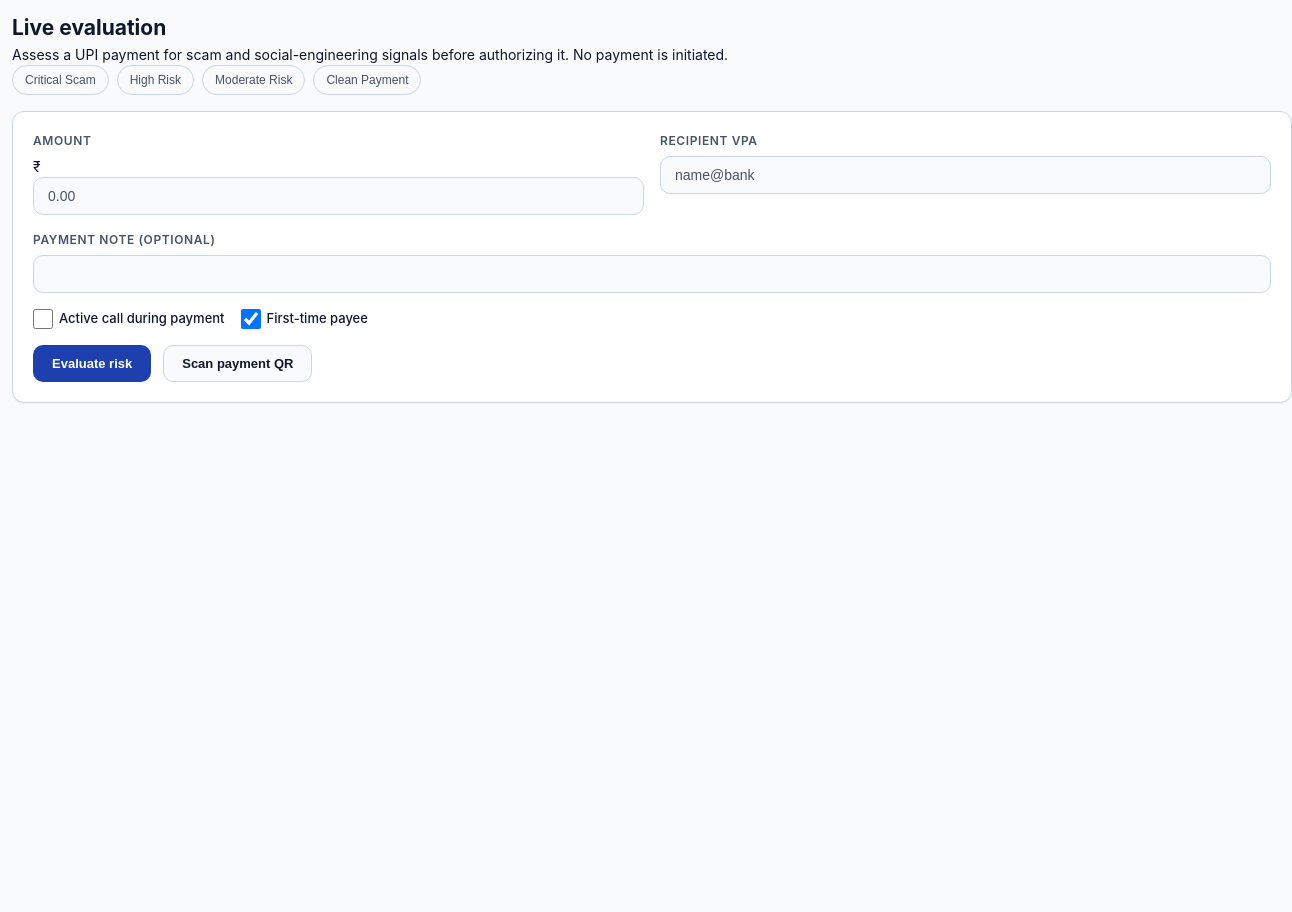
Test: copy transaction ID button works
Type "100" into the field labelled "Amount". click: (338, 196)
box: [33,176,644,214]
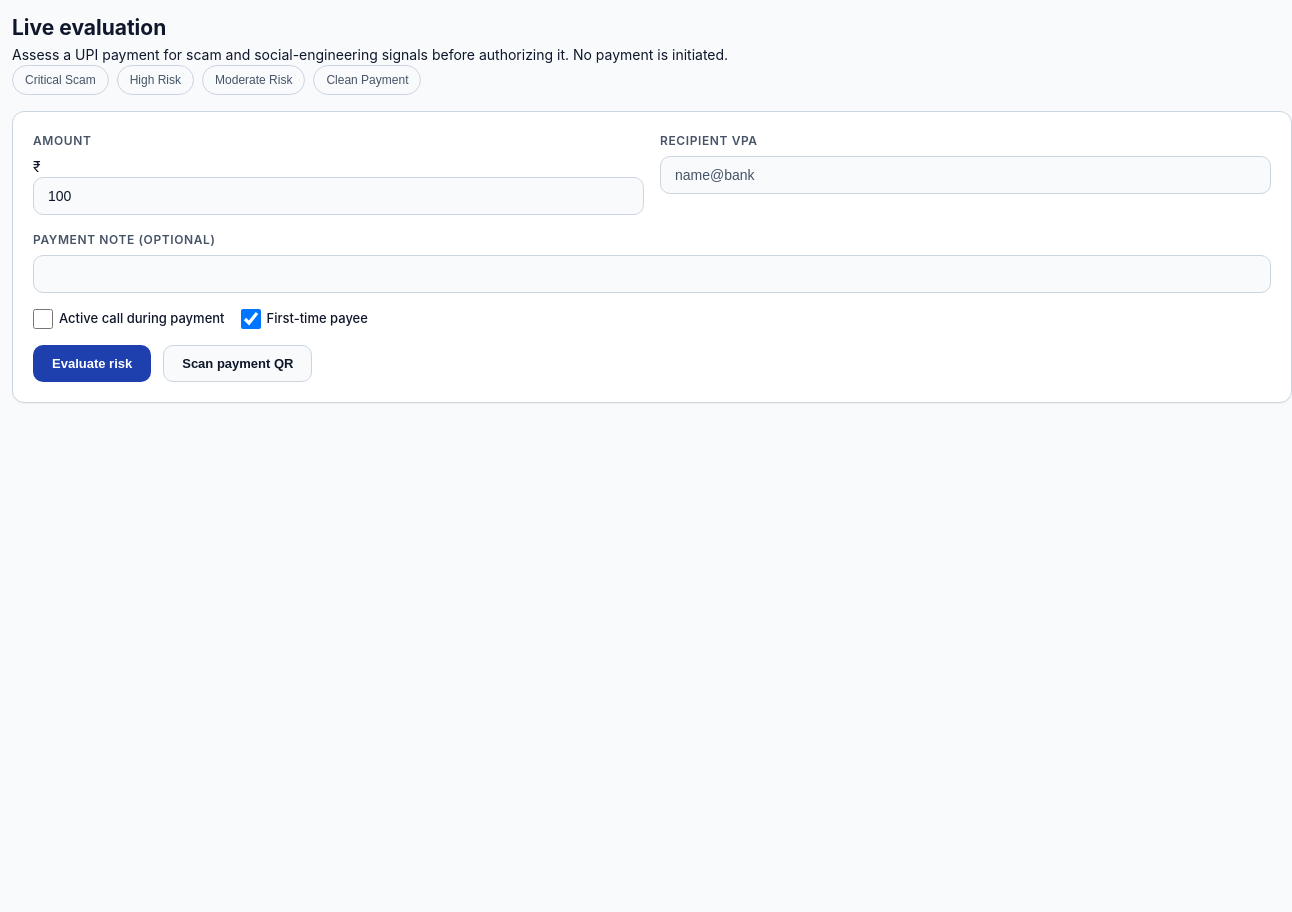
Type "test@bank" into the field labelled "Recipient VPA". click: (966, 174)
box: [660,156,1271,194]
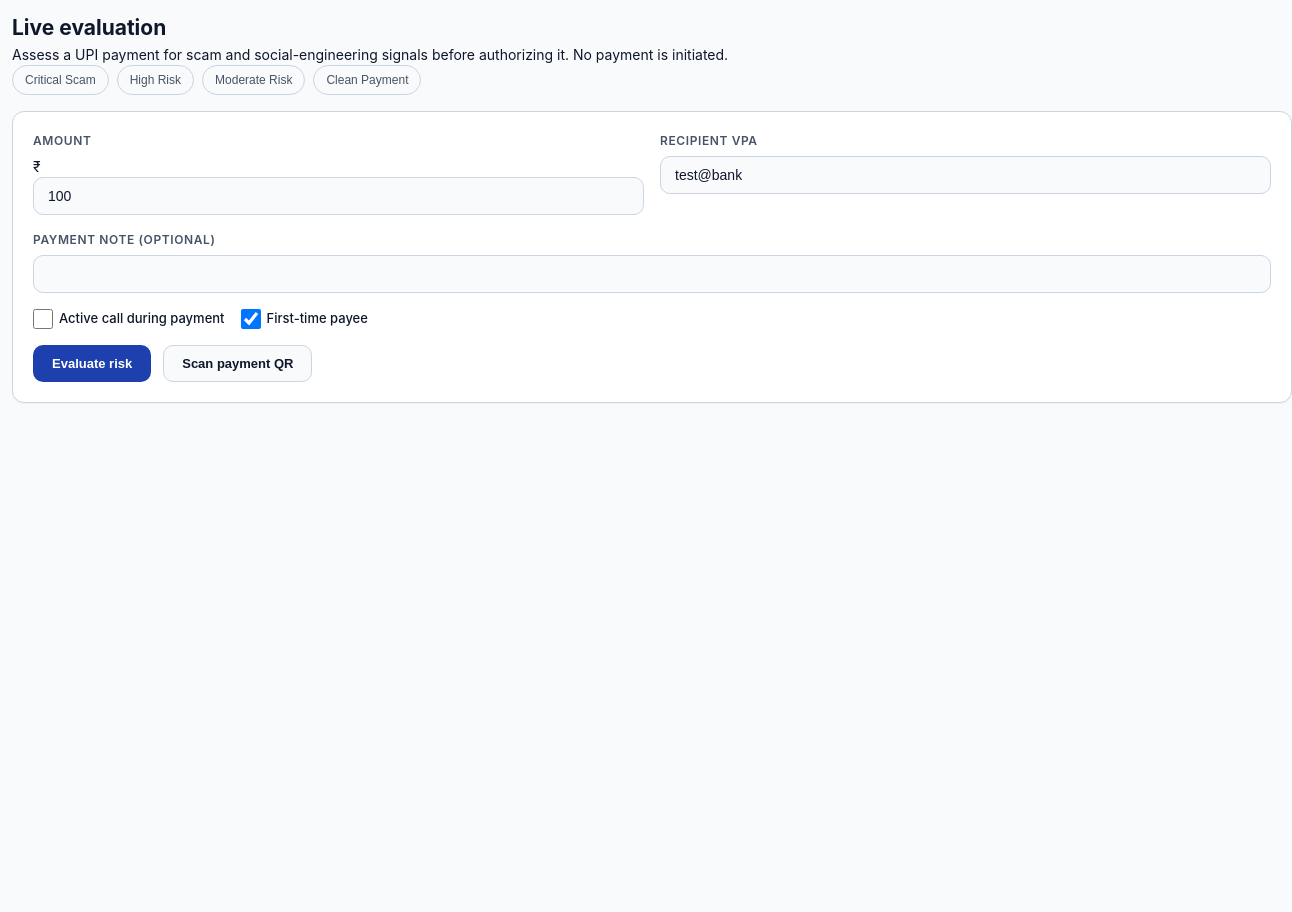
Click the button "Evaluate risk". click: (92, 363)
box: [33,344,151,382]
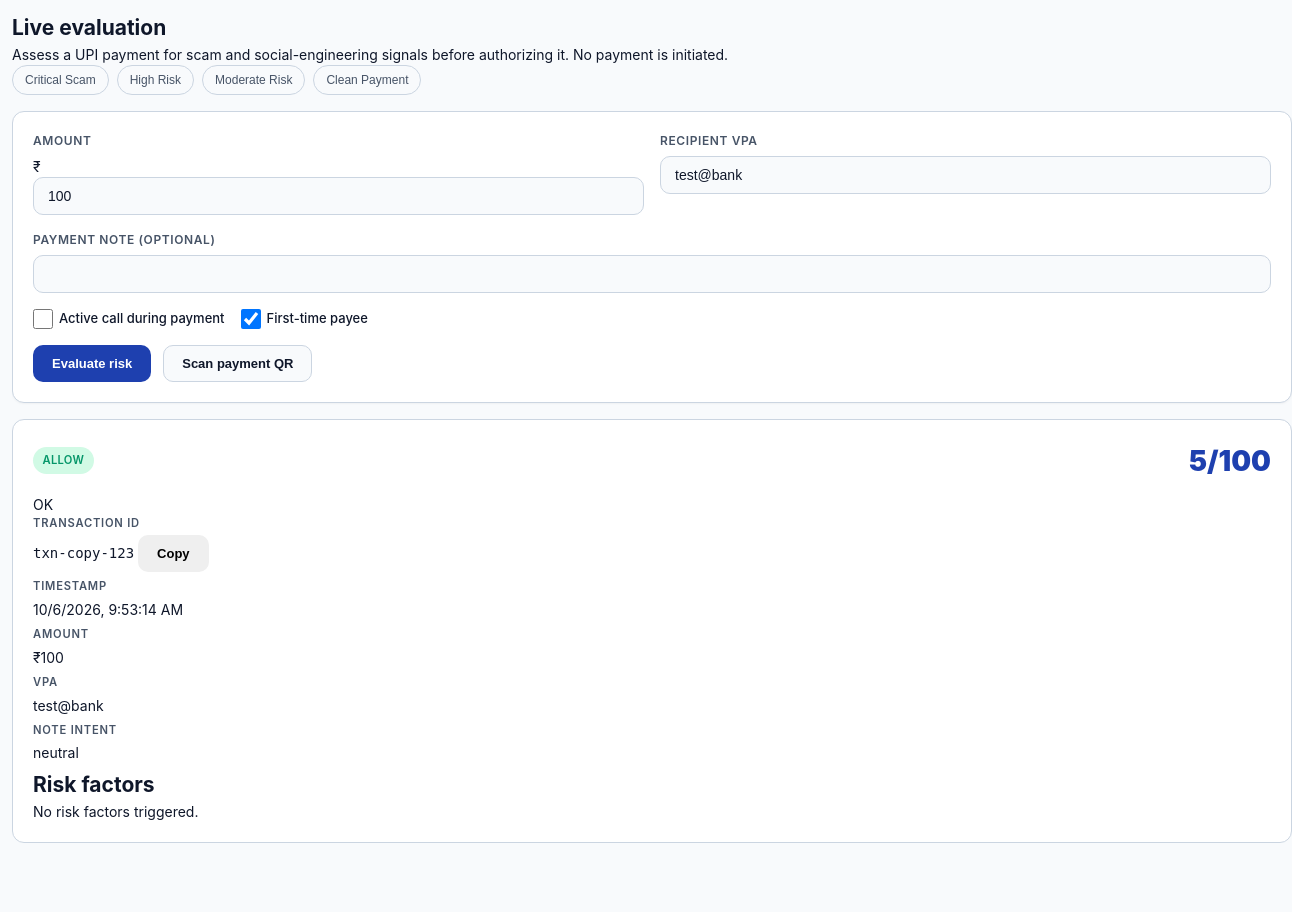
Expected: the text "ALLOW" is shown, [33,446,94,474]
Click the button "Copy". click: (173, 554)
box: [138,535,209,572]
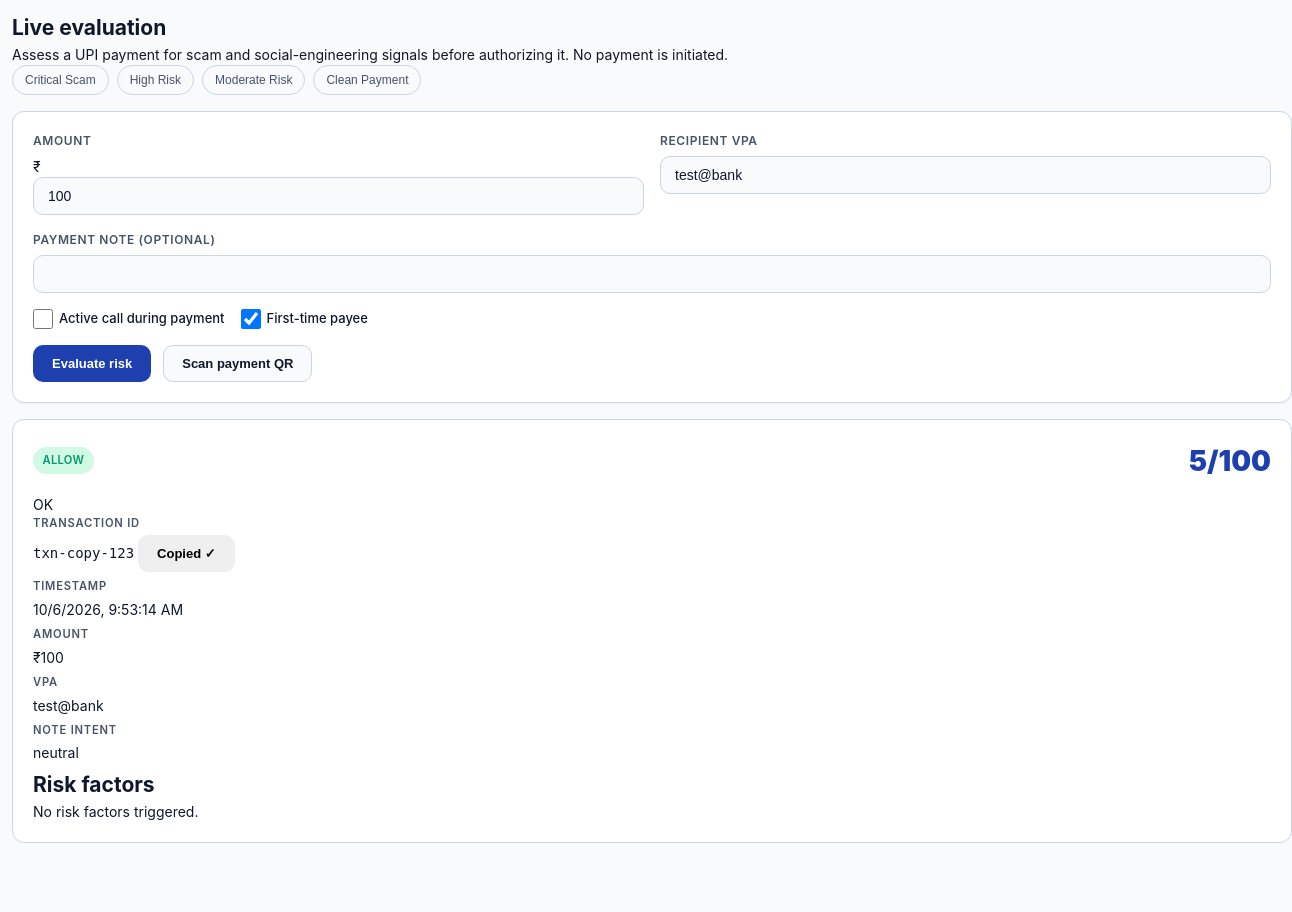
Expected: the button "Copied ✓" is shown, [138,535,235,572]
